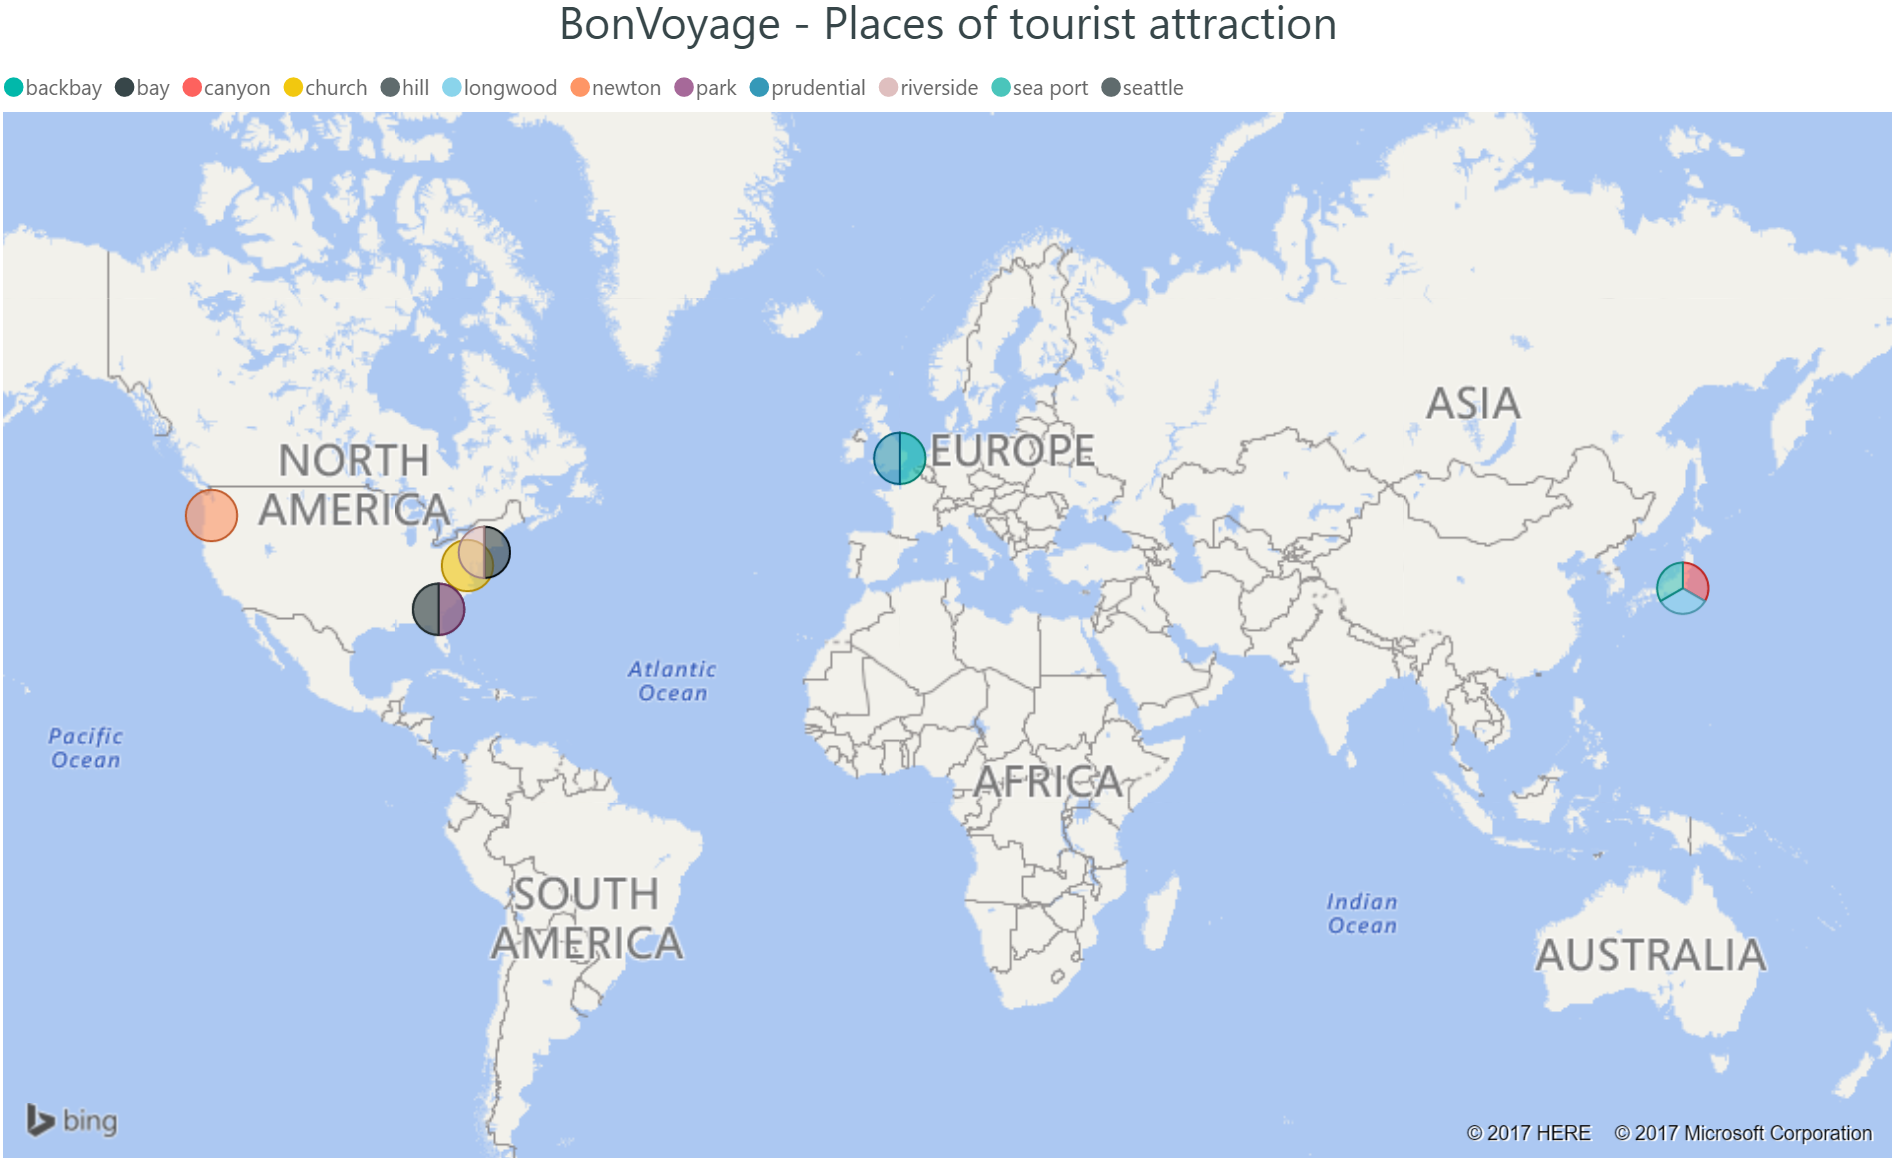

The dashboard page shown, as its layout file describes it:
{"tool":"powerbi","page":{"name":"Page 1","canvas":[1280,720],"ordinal":0},"visuals":[{"type":"map","fields":{"Category":["Address.AddressLine2"],"Series":["TouristAttractions.Name"]},"box":[10.2,20.3,968.4,597.9],"z":1}]}

Visuals, with their boxes on the page's 1280x720 design canvas (x1, y1, x2, y2). These are canvas units, not pixel positions in the 1892x1158 screenshot, which may show the page scaled, cropped or inside an application window:
map - Address.AddressLine2 x TouristAttractions.Name: crop(10, 20, 979, 618)
